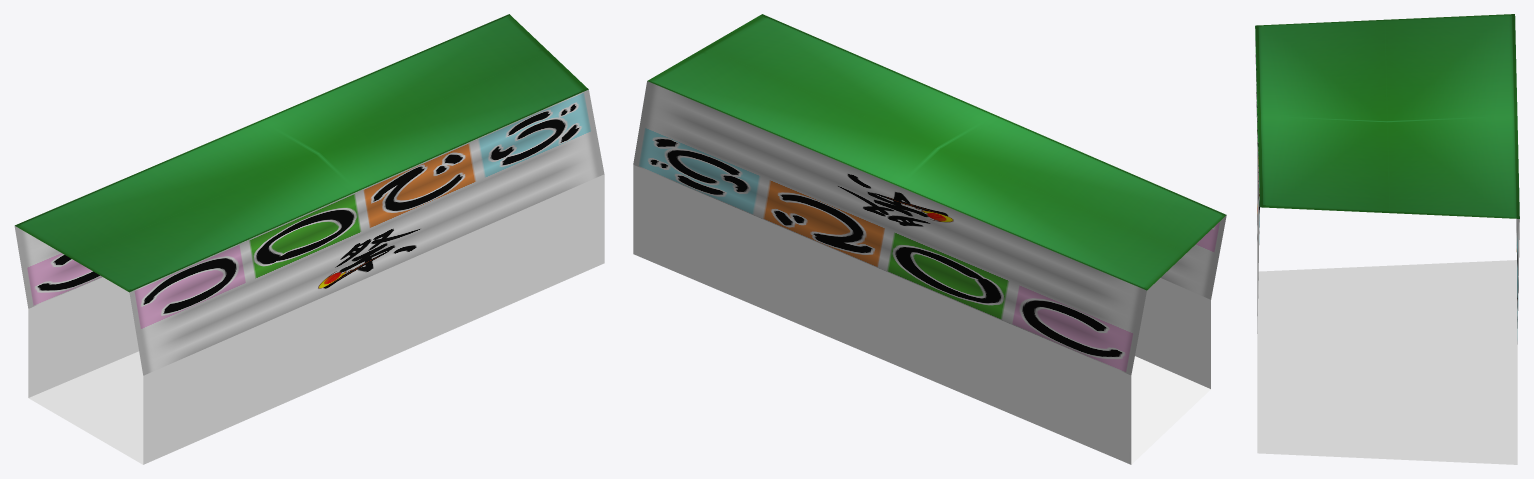
File: CourseWinter_Wall_R_15_8.fbx
3 renders of one model, left to right at view 1: azimuth 30°, elevation 25°; view 2: azimuth 150°, elevation 25°; view 3: azimuth 270°, elevation 25°, orthographic. The views are drawn at different scales.
Visible parts, largest first — view 1: polySurface586; view 2: polySurface586; view 3: polySurface586.
Boxes of the visible parts, x1=… form: polySurface586: x1=14, y1=14, x2=604, y2=464; polySurface586: x1=633, y1=14, x2=1226, y2=464; polySurface586: x1=1255, y1=14, x2=1519, y2=464.
Bounding box in the file's own units: 6.01 × 2.98 × 2.01.
Materials: 1 (1 with a texture image).
